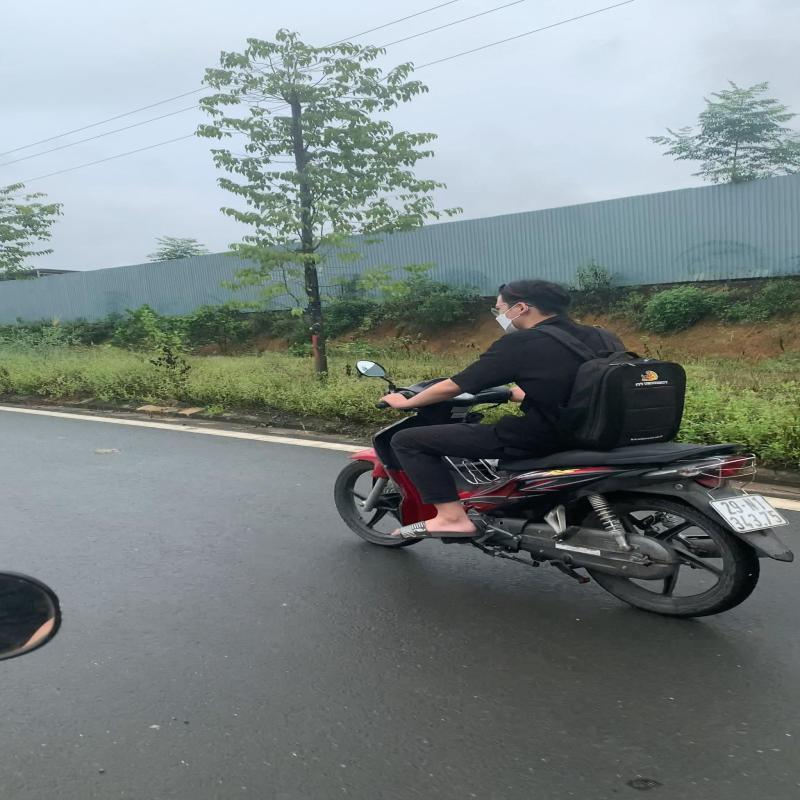licenseplate: (703, 490, 797, 534)
motorcyclist: (323, 272, 800, 622)
nohelmet: (490, 278, 576, 327)
